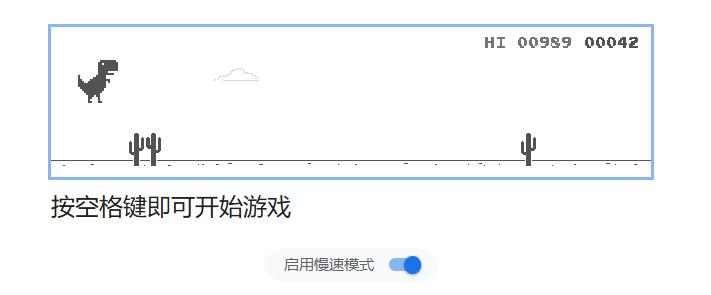cactus: (126, 130, 164, 170), (518, 132, 539, 168)
dino: (75, 56, 120, 106)
